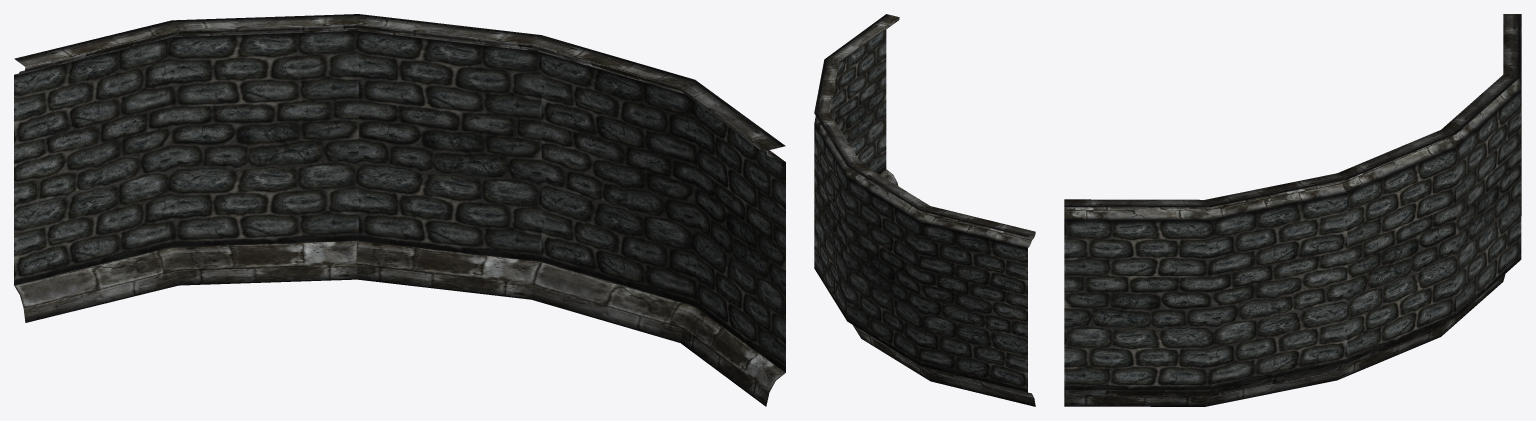
The model's file is corner_concave_round_exstension_stairs.dae.
3 views of the same model, side by side, from view 1: azimuth 30°, elevation 25°; view 2: azimuth 150°, elevation 25°; view 3: azimuth 270°, elevation 25° (orthographic). The views are drawn at different scales.
Parts seen in each view (by area): view 1: polySurface114; view 2: polySurface114; view 3: polySurface114.
Part boxes in pixels (box(x1,y1,x2,y2)): polySurface114: box(14, 14, 785, 406); polySurface114: box(814, 14, 1035, 406); polySurface114: box(1064, 14, 1521, 406).
Size of the model in its own units: 8 by 4 by 8.
